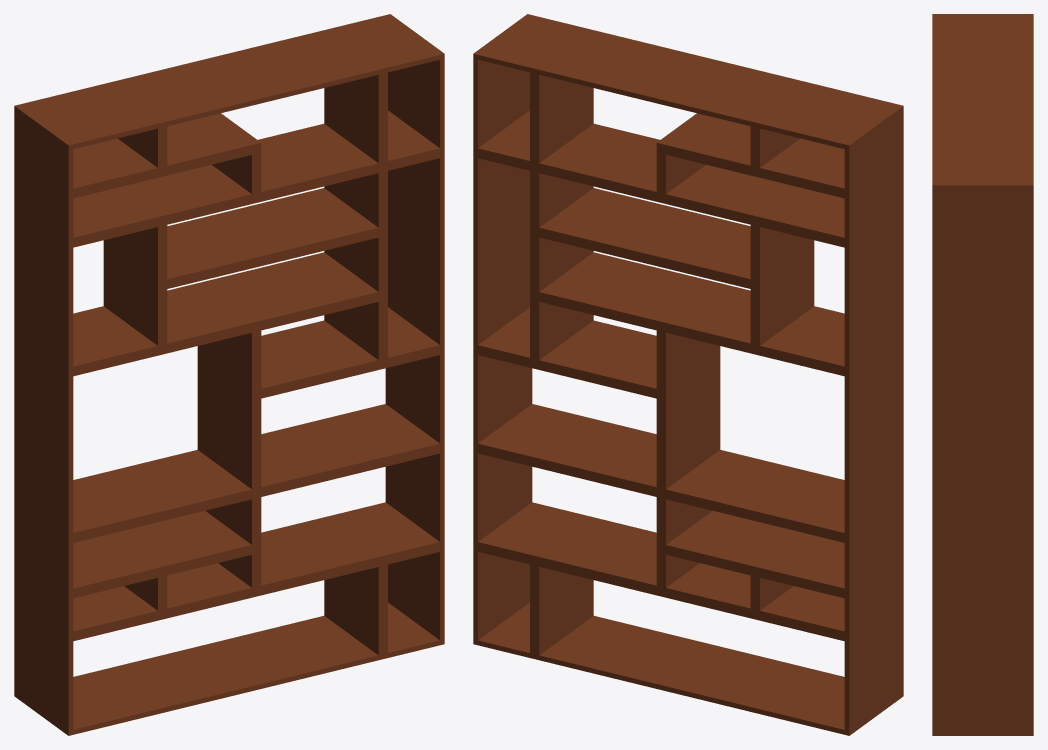
Rendered from bookshelf.fbx.
The picture shows the model from 3 angles, left to right: view 1: azimuth 30°, elevation 25°; view 2: azimuth 150°, elevation 25°; view 3: azimuth 270°, elevation 25°; orthographic projection. The views are drawn at different scales.
Visible parts, largest first — view 1: Cube-col; view 2: Cube-col; view 3: Cube-col.
Part boxes in pixels (bbox=[...]): Cube-col: bbox=[14, 14, 444, 735]; Cube-col: bbox=[473, 14, 903, 735]; Cube-col: bbox=[932, 14, 1033, 735].
Bounding box in the file's own units: 150 × 225 × 37.5.
